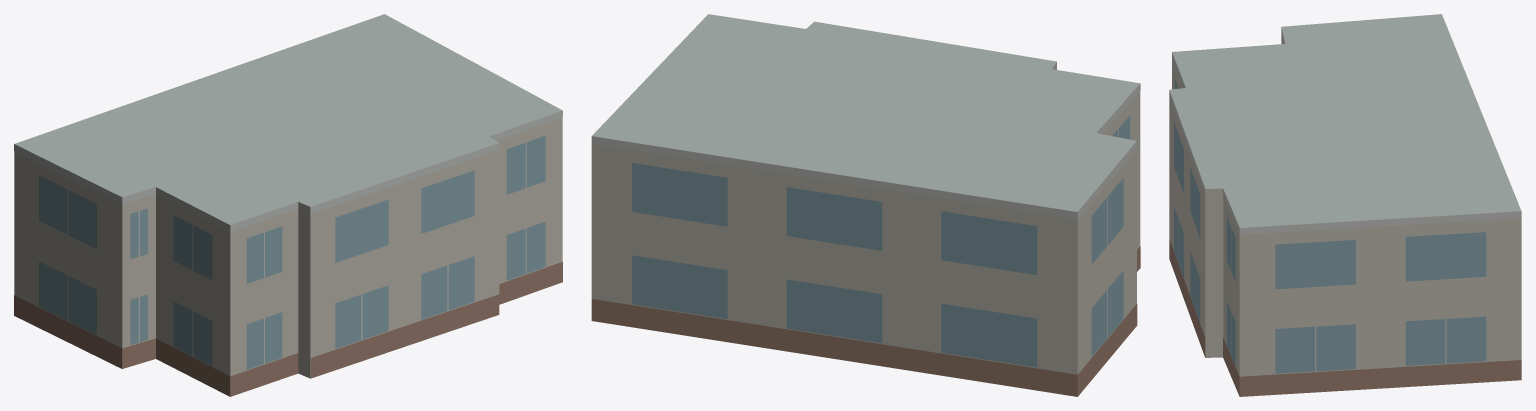
Rendered from survey-upis-32960336.glb.
3 renders of one model, left to right at view 1: azimuth 30°, elevation 25°; view 2: azimuth 150°, elevation 25°; view 3: azimuth 270°, elevation 25°, orthographic. The views are drawn at different scales.
Parts seen in each view (by area): view 1: survey-upis-32960336.tmp; view 2: survey-upis-32960336.tmp; view 3: survey-upis-32960336.tmp.
Part boxes in pixels (left/top/right/bottom): survey-upis-32960336.tmp: left=14, top=14, right=562, bottom=396; survey-upis-32960336.tmp: left=591, top=14, right=1140, bottom=396; survey-upis-32960336.tmp: left=1169, top=14, right=1521, bottom=396.
Size of the model in its own units: 16.59 by 6.1 by 11.54.
